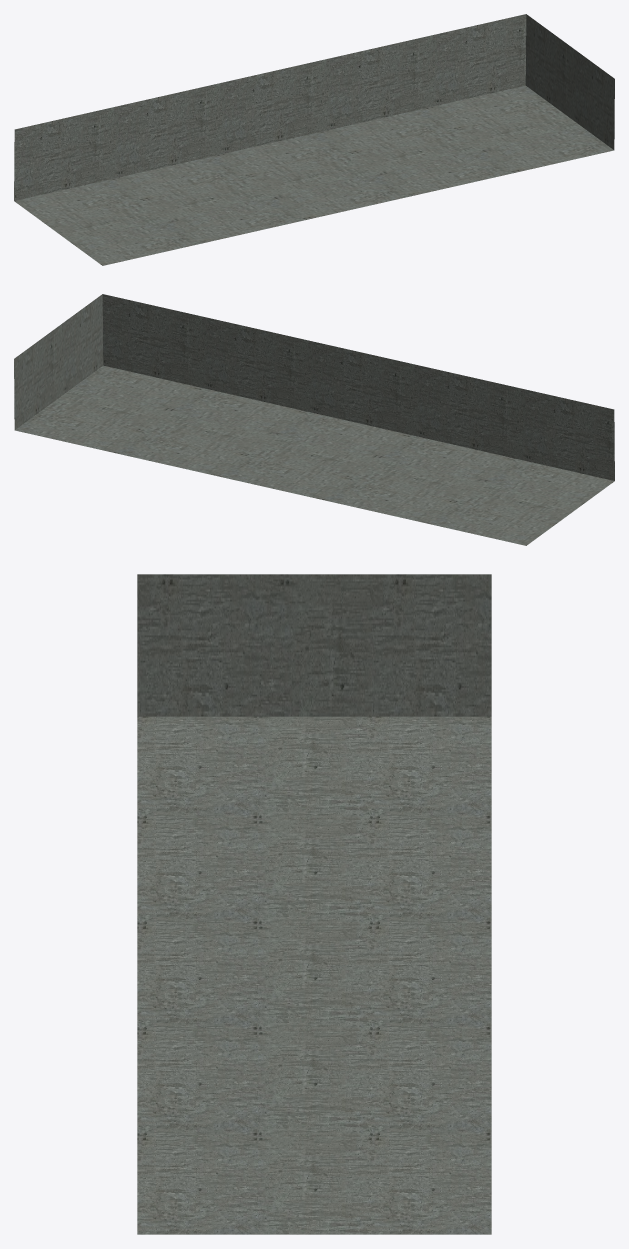
3 renders of one model, top to bottom at view 1: azimuth 30°, elevation 25°; view 2: azimuth 150°, elevation 25°; view 3: azimuth 270°, elevation 25°, orthographic. The views are drawn at different scales.
Visible parts, largest first — view 1: 0_0_1_2_1_1_1_2_0; view 2: 0_0_1_2_1_1_1_2_0; view 3: 0_0_1_2_1_1_1_2_0.
Boxes of the visible parts, x1,y1,x2,y2 form: 0_0_1_2_1_1_1_2_0: (14, 14, 614, 265); 0_0_1_2_1_1_1_2_0: (14, 294, 614, 545); 0_0_1_2_1_1_1_2_0: (137, 574, 491, 1234).
Size of the model in its own units: 1.5 by 0.2262 by 0.45.
Materials: 1 (1 with a texture image).
